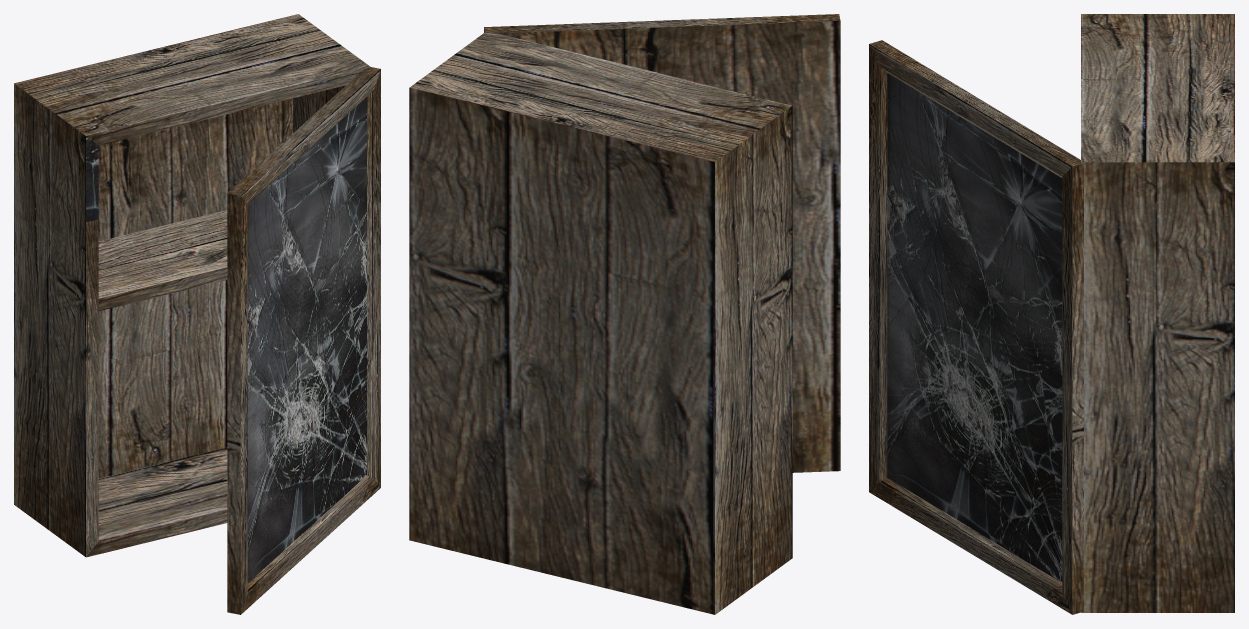
Rendered from EspejoBano.FBX.
3 views of the same model, side by side, from view 1: azimuth 30°, elevation 25°; view 2: azimuth 150°, elevation 25°; view 3: azimuth 270°, elevation 25° (orthographic). The views are drawn at different scales.
Visible parts, largest first — view 1: espejobano; view 2: espejobano; view 3: espejobano.
Boxes of the visible parts, x1,y1,x2,y2 form: espejobano: (14,14,380,614); espejobano: (409,14,840,614); espejobano: (869,14,1234,614).
Size of the model in its own units: 14.72 by 20.37 by 14.99.
